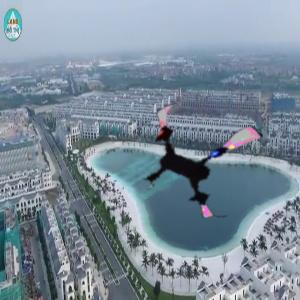drone: (134, 92, 268, 226)
